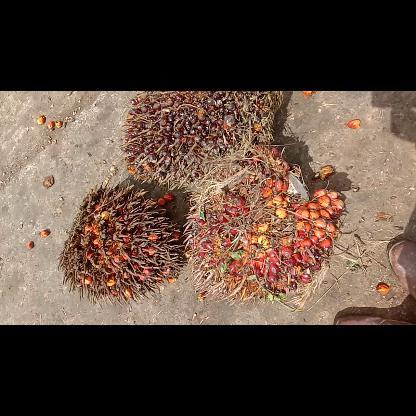Kurang masak: (122, 94, 282, 188)
TBS masak: (189, 147, 345, 297)
Terlalu masak: (61, 184, 184, 298)
